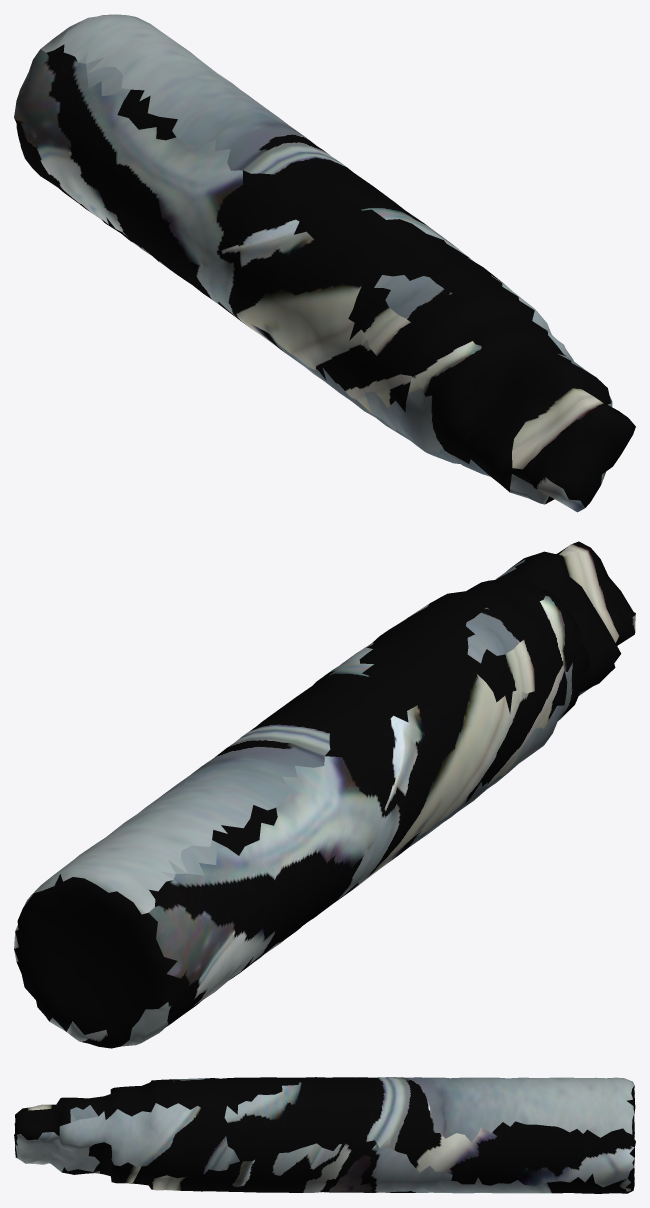
File: scan_align.obj
3 views of the same model, one above another, from view 1: azimuth 30°, elevation 25°; view 2: azimuth 150°, elevation 25°; view 3: azimuth 270°, elevation 25° (orthographic). The views are drawn at different scales.
Bounding box in the file's own units: 0.0285 × 0.0285 × 0.1525.
